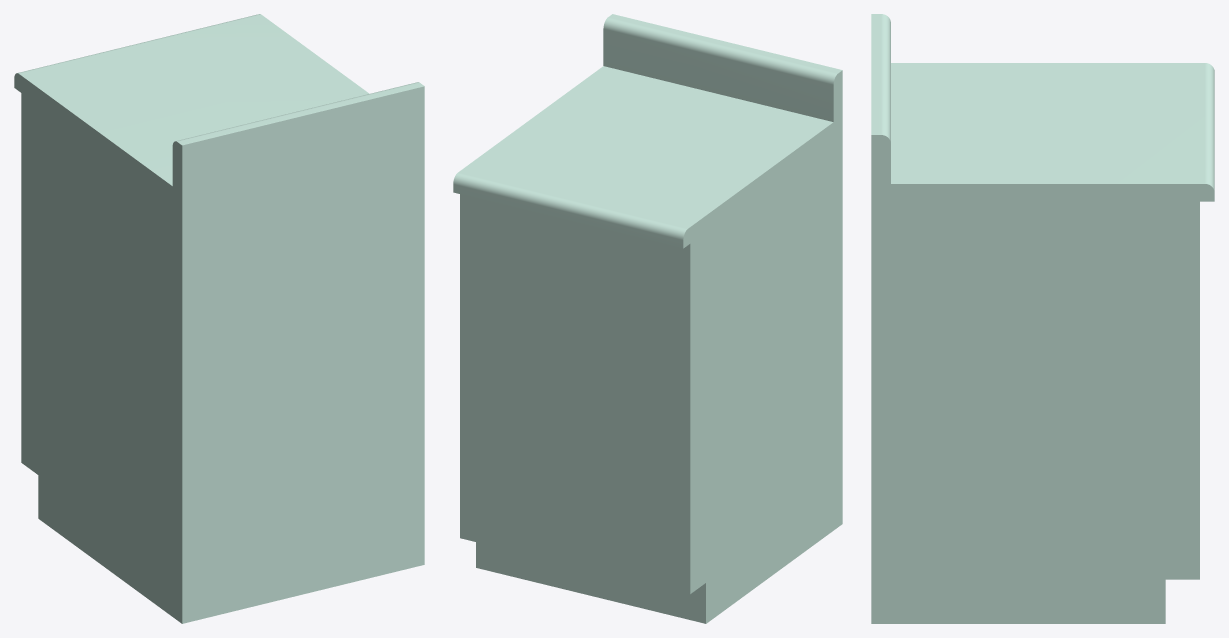
The picture shows the model from 3 angles, left to right: view 1: azimuth 30°, elevation 25°; view 2: azimuth 150°, elevation 25°; view 3: azimuth 270°, elevation 25°; orthographic projection. The views are drawn at different scales.
Visible parts, largest first — view 1: Renderer Node; view 2: Renderer Node; view 3: Renderer Node.
Boxes of the visible parts, bbox=[...] form: Renderer Node: bbox=[14, 14, 424, 623]; Renderer Node: bbox=[453, 14, 842, 623]; Renderer Node: bbox=[871, 14, 1214, 623].
Bounding box in the file's own units: 0.3984 × 0.7508 × 0.4778.
